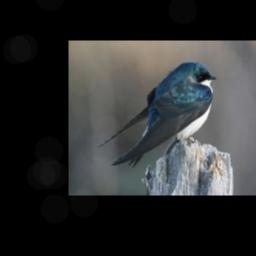Swallow: (96, 61, 215, 167)
